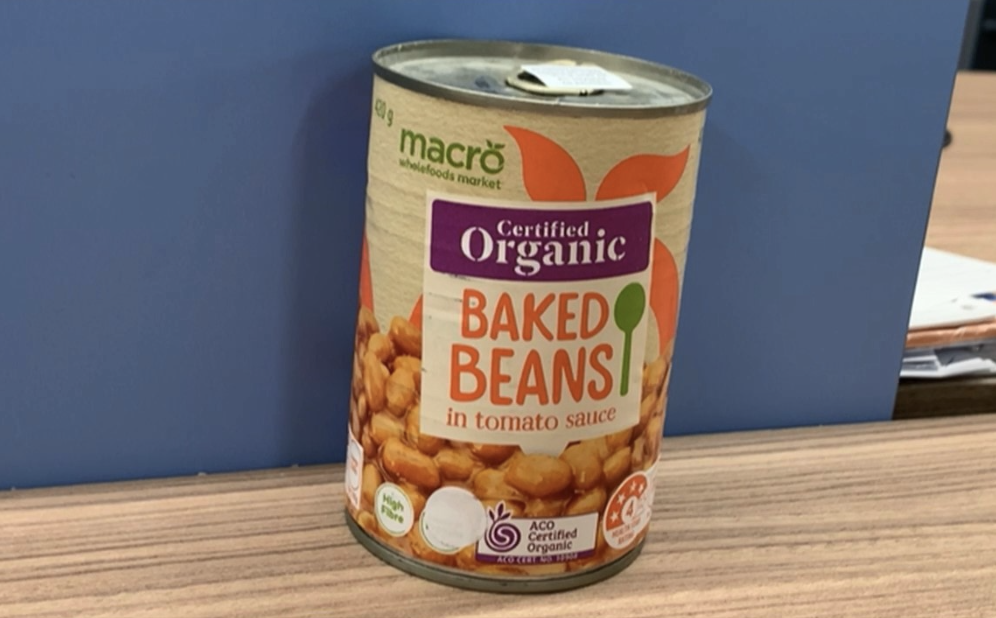Baked beans_400-499g: (378, 128, 634, 563)
